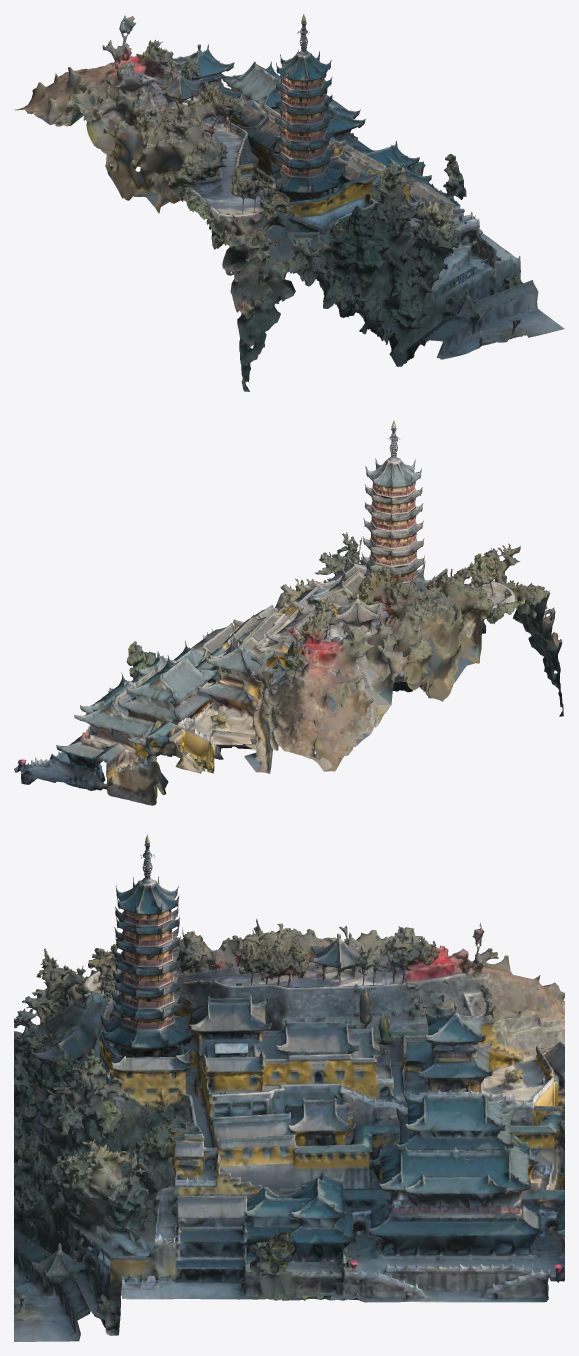
File: jinshan_temple_cishou_pagoda_far.glb
3 views of the same model, one above another, from view 1: azimuth 30°, elevation 25°; view 2: azimuth 150°, elevation 25°; view 3: azimuth 270°, elevation 25° (orthographic). The views are drawn at different scales.
Visible parts, largest first — view 1: Object_2; view 2: Object_2; view 3: Object_2.
Boxes of the visible parts, left/top/right/bottom form: Object_2: left=14, top=14, right=564, bottom=391; Object_2: left=14, top=420, right=563, bottom=805; Object_2: left=14, top=834, right=564, bottom=1341.
Size of the model in its own units: 327 by 318 by 407.
1 material, 1 textured.
